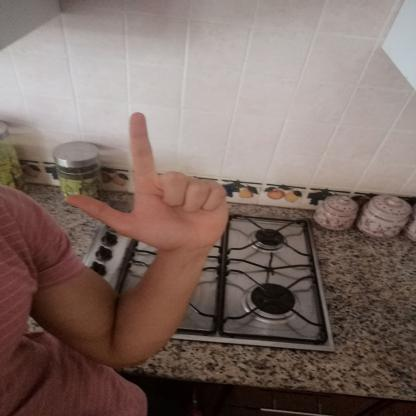LAAM: (49, 106, 241, 258)
